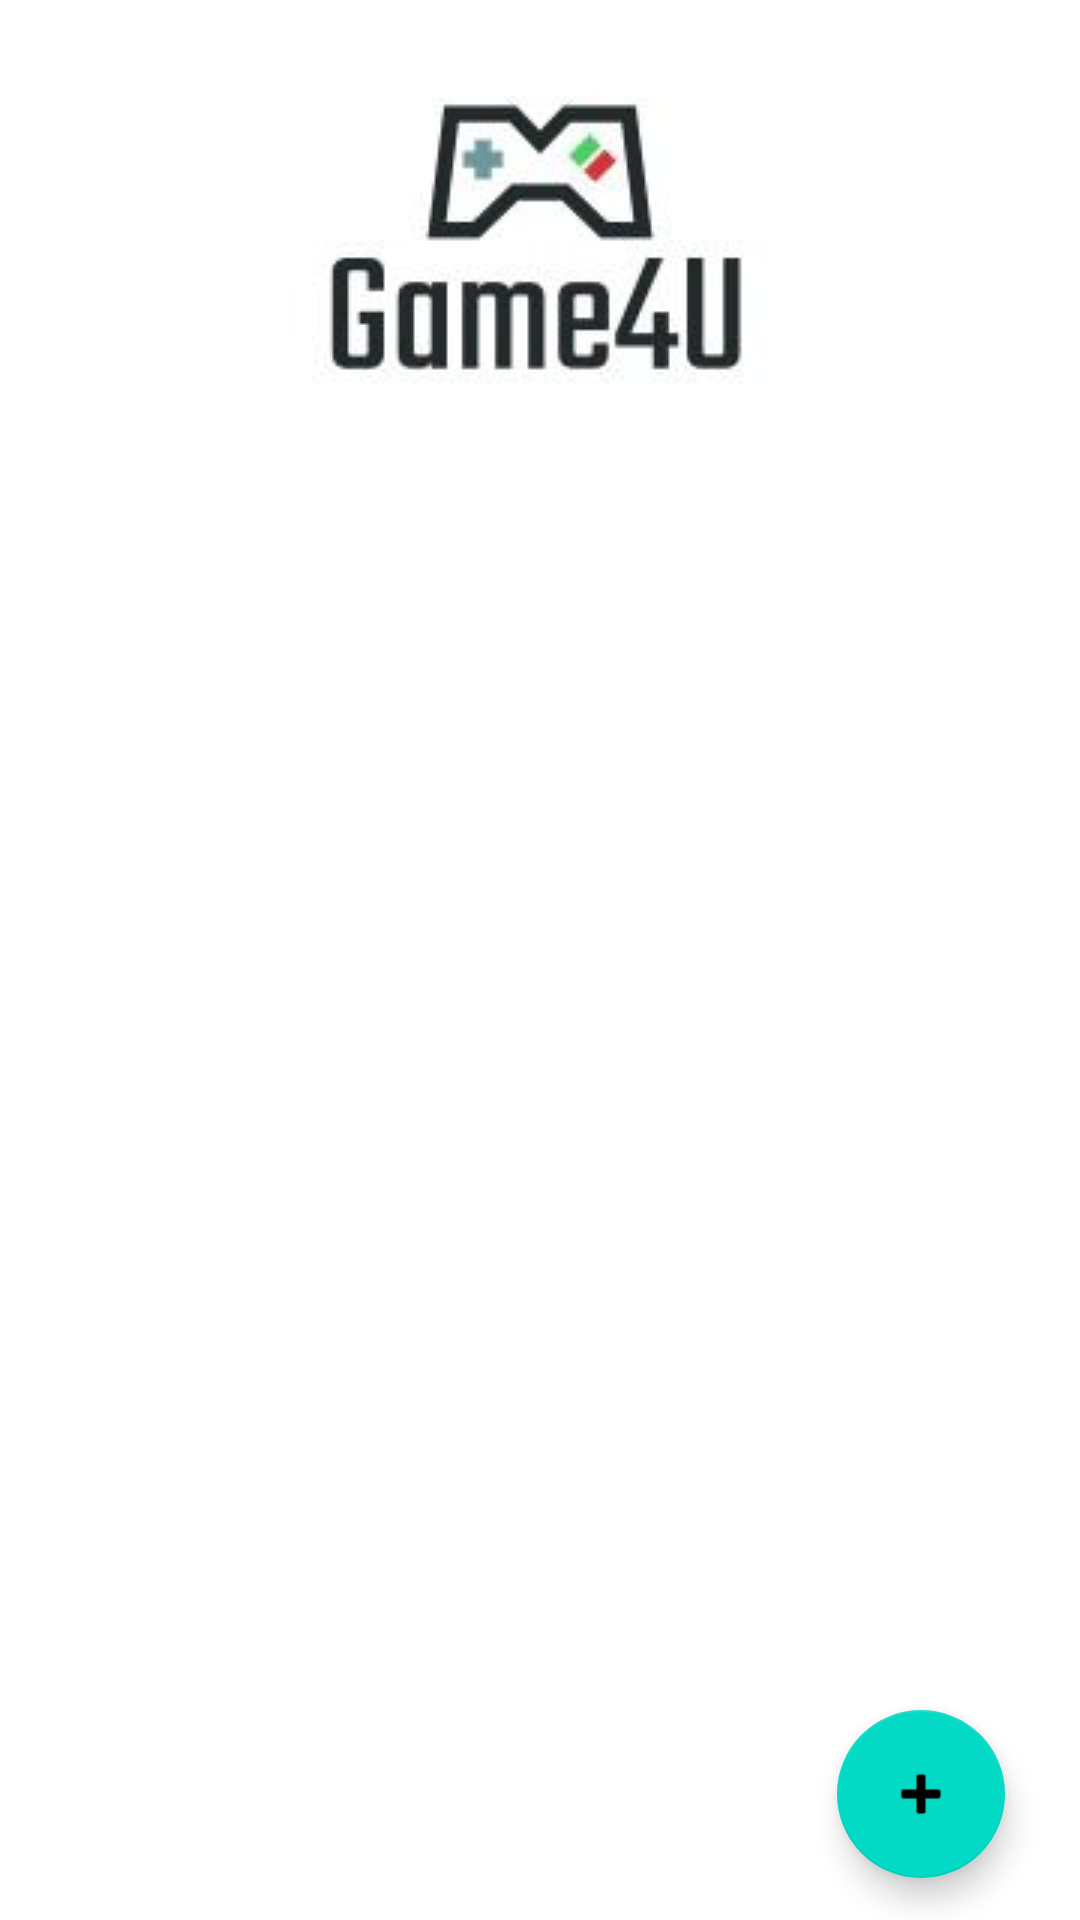

Icons on this 1080x1920 Android screen, each with its box as [x1=x1, y1=y1, x2=x2, y2=y2]:
add: [x1=837, y1=1710, x2=1005, y2=1878]
